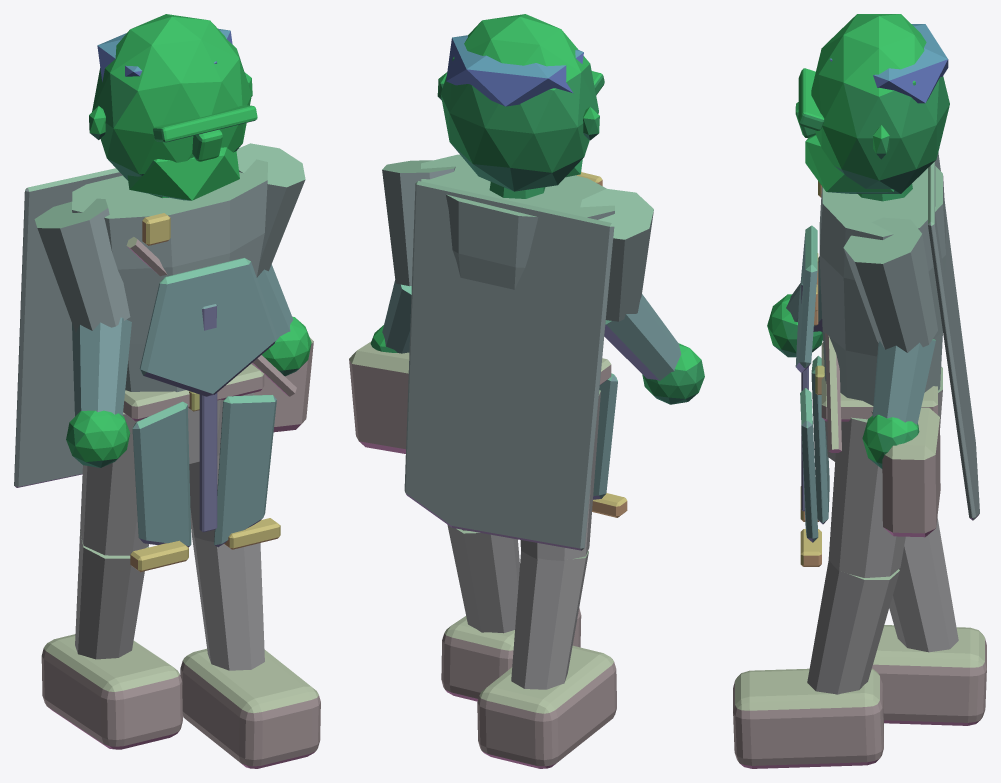
File: npc_healer_contact_r_v01.glb
The picture shows the model from 3 angles, left to right: view 1: azimuth 30°, elevation 25°; view 2: azimuth 150°, elevation 25°; view 3: azimuth 270°, elevation 25°; orthographic projection. The views are drawn at different scales.
Visible parts, largest first — view 1: GEO_npc_healer_contact_r_v01; view 2: GEO_npc_healer_contact_r_v01; view 3: GEO_npc_healer_contact_r_v01.
Part boxes in pixels (x1=…): GEO_npc_healer_contact_r_v01: x1=14, y1=14, x2=320, y2=768; GEO_npc_healer_contact_r_v01: x1=349, y1=14, x2=704, y2=768; GEO_npc_healer_contact_r_v01: x1=733, y1=14, x2=986, y2=768.
Size of the model in its own units: 0.8946 by 2.08 by 0.6662.
